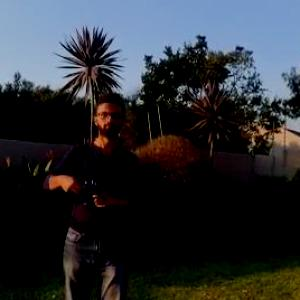follow: (38, 87, 146, 299)
